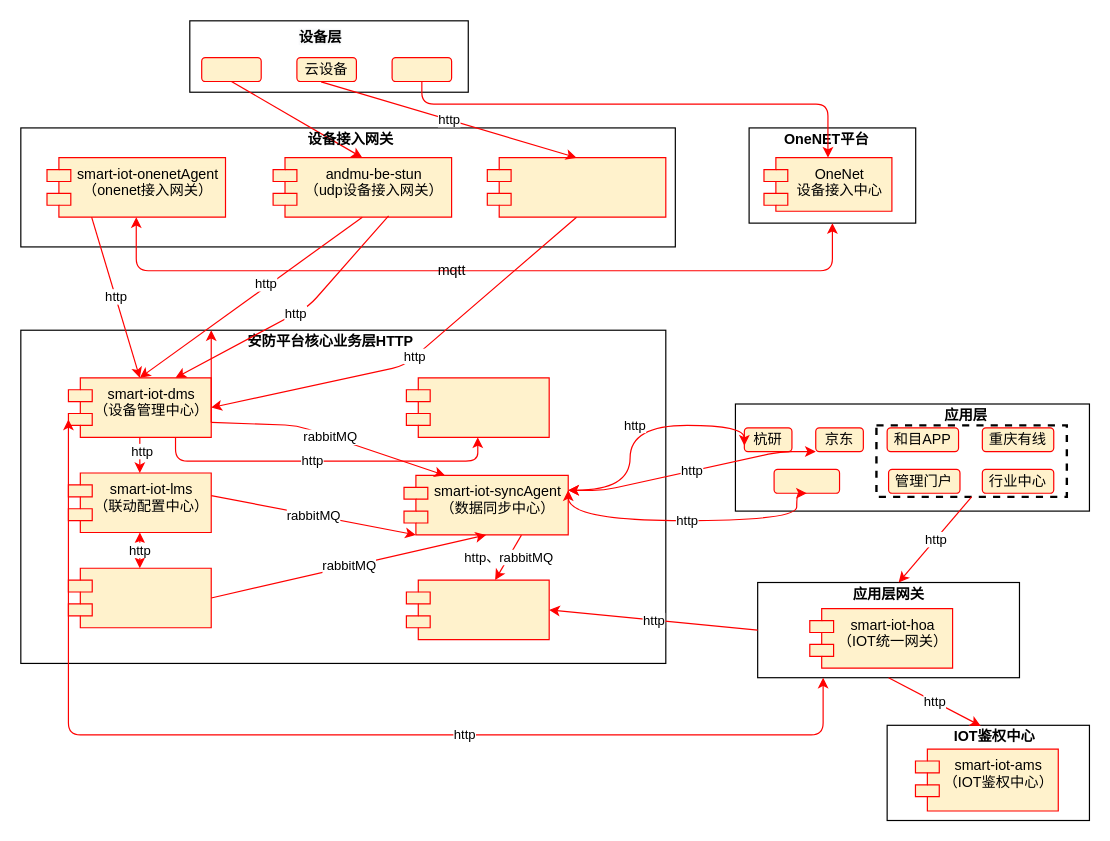
Image size: 1110x841. Some labels were removed from this diagram. Each missing label, with the box of its shape:
mqtt设备: (391, 57, 452, 82)
smart-iot-dcs （设备模型中心）: (405, 377, 549, 437)
smart-iot-ddc （日志中心）: (405, 579, 549, 640)
smart-iot-deviceApi （http接入网关）: (486, 156, 666, 217)
smart-iot-dra （外联动规则引擎）: (67, 567, 211, 628)
udp设备: (201, 57, 261, 82)
三方平台: (773, 468, 840, 493)
